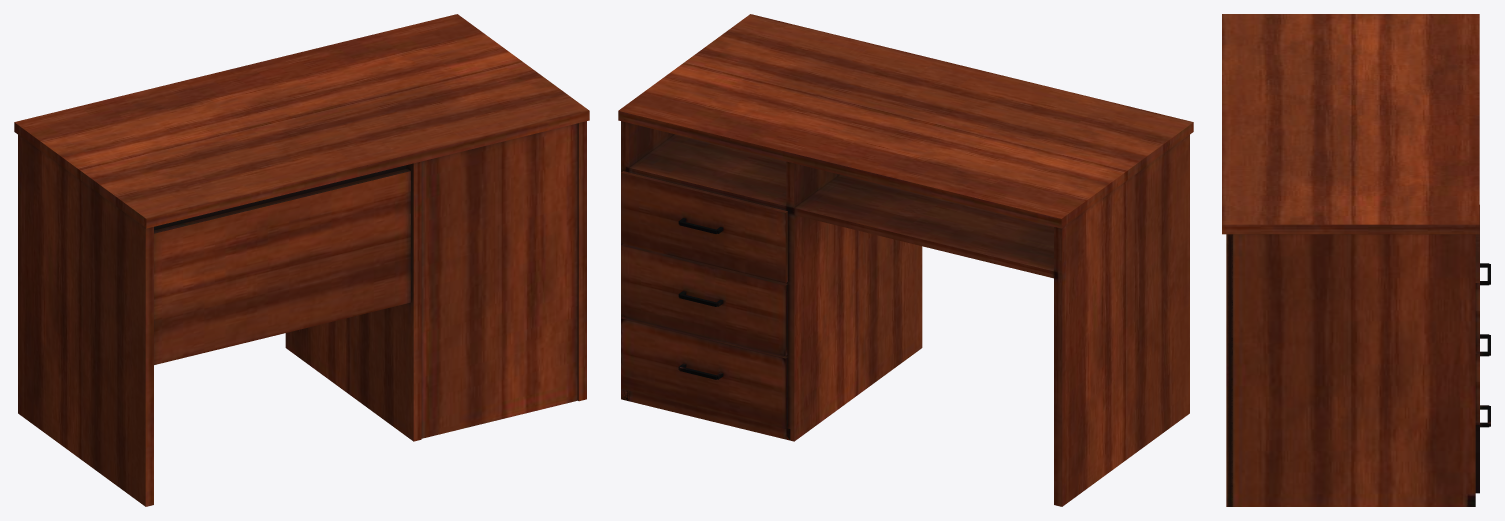
Rendered from desk_pedestal_web.glb.
3 views of the same model, side by side, from view 1: azimuth 30°, elevation 25°; view 2: azimuth 150°, elevation 25°; view 3: azimuth 270°, elevation 25° (orthographic). The views are drawn at different scales.
Parts seen in each view (by area): view 1: DeskPedestal_Mesh; view 2: DeskPedestal_Mesh, Drawer_1_Mesh, Drawer_2_Mesh, Drawer_3_Mesh; view 3: DeskPedestal_Mesh, Drawer_3_Mesh, Drawer_2_Mesh, Drawer_1_Mesh.
Boxes of the visible parts, bbox=[...] form: DeskPedestal_Mesh: bbox=[14, 14, 589, 506]; DeskPedestal_Mesh: bbox=[618, 14, 1193, 506]; Drawer_1_Mesh: bbox=[621, 316, 787, 428]; Drawer_2_Mesh: bbox=[621, 244, 787, 356]; Drawer_3_Mesh: bbox=[621, 171, 787, 283]; DeskPedestal_Mesh: bbox=[1222, 14, 1479, 506]; Drawer_3_Mesh: bbox=[1475, 205, 1490, 351]; Drawer_2_Mesh: bbox=[1475, 334, 1490, 422]; Drawer_1_Mesh: bbox=[1475, 405, 1490, 493].
Size of the model in its own units: 1.2 by 0.75 by 0.647.
Materials: 1 (1 with a texture image).
